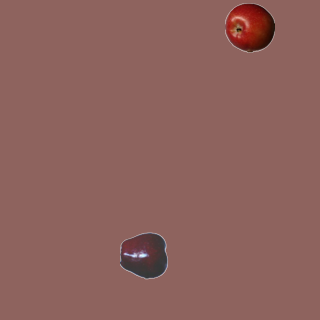Apple Braeburn: (224, 2, 274, 52)
Apple Red Delicious: (119, 230, 169, 280)
